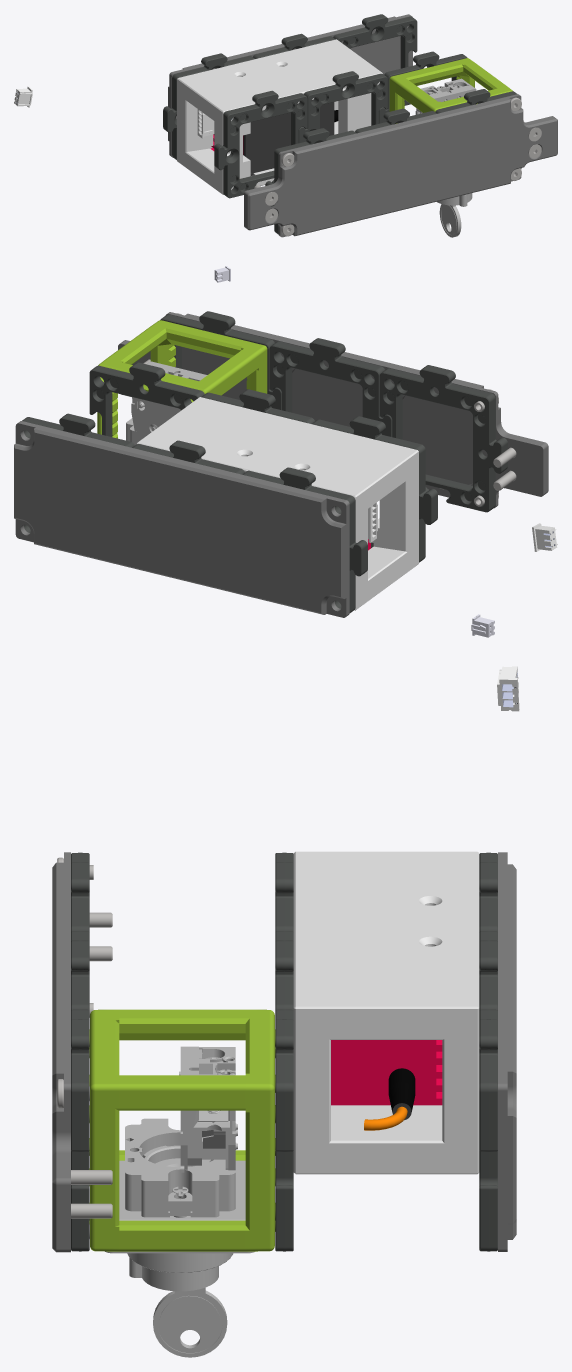
The model's file is ASS_-_1006_-_LASMOD-FRAME.glb.
The picture shows the model from 3 angles, top to bottom: view 1: azimuth 30°, elevation 25°; view 2: azimuth 150°, elevation 25°; view 3: azimuth 270°, elevation 25°; orthographic projection. The views are drawn at different scales.
Visible parts, largest first — view 1: PRT - 1025 - TOPPLA3X1 - V04:1, PRT - 3010 - CASHLFLAS:2, PRT - 3010 - CASHLFLAS:1, ASS - 2060 - CUBLASKEY - V04_Vereinfachen_1:1, PRT - 1004 - PUZ11 - V04 - A:4, Laser:1, PRT - 1004 - PUZ11 - V04 - A:5, PRT - 1024 - BASPLA3X1 - V04:1, PRT - 1004 - PUZ11 - V04 - A:3, PRT - 1004 - PUZ11 - V04 - A:1, PRT - 1004 - PUZ11 - V04 - A:6, PRT - 1004 - PUZ11 - V04 - A:7 (+4 smaller); view 2: PRT - 1024 - BASPLA3X1 - V04:1, PRT - 1025 - TOPPLA3X1 - V04:1, PRT - 3010 - CASHLFLAS:2, ASS - 2060 - CUBLASKEY - V04_Vereinfachen_1:1, PRT - 3010 - CASHLFLAS:1, PRT - 1004 - PUZ11 - V04 - A:7, PRT - 1004 - PUZ11 - V04 - A:8, PRT - 1004 - PUZ11 - V04 - A:6, PRT - 1004 - PUZ11 - V04 - A:4, PRT - 1004 - PUZ11 - V04 - A:1, PRT - 1004 - PUZ11 - V04 - A:9, PRT - 1004 - PUZ11 - V04 - A:5 (+4 smaller); view 3: ASS - 2060 - CUBLASKEY - V04_Vereinfachen_1:1, PRT - 3010 - CASHLFLAS:2, PRT - 3010 - CASHLFLAS:1, Laser:1, PRT - 1024 - BASPLA3X1 - V04:1, PRT - 1025 - TOPPLA3X1 - V04:1, PRT - 1004 - PUZ11 - V04 - A:6, PRT - 1004 - PUZ11 - V04 - A:3, PRT - 1004 - PUZ11 - V04 - A:9, PRT - 1004 - PUZ11 - V04 - A:4, PRT - 1004 - PUZ11 - V04 - A:1, PRT - 1004 - PUZ11 - V04 - A:7 (+4 smaller).
Part boxes in pixels (x1,y1,x2,y2): PRT - 1025 - TOPPLA3X1 - V04:1: (244, 94, 557, 237); PRT - 3010 - CASHLFLAS:2: (199, 56, 382, 194); PRT - 3010 - CASHLFLAS:1: (177, 39, 358, 177); ASS - 2060 - CUBLASKEY - V04_Vereinfachen_1:1: (389, 58, 512, 237); PRT - 1004 - PUZ11 - V04 - A:4: (214, 90, 307, 198); Laser:1: (211, 100, 338, 175); PRT - 1004 - PUZ11 - V04 - A:5: (298, 71, 387, 143); PRT - 1024 - BASPLA3X1 - V04:1: (168, 14, 412, 157); PRT - 1004 - PUZ11 - V04 - A:3: (333, 14, 417, 105); PRT - 1004 - PUZ11 - V04 - A:1: (163, 53, 254, 159); PRT - 1004 - PUZ11 - V04 - A:6: (379, 51, 467, 123); PRT - 1004 - PUZ11 - V04 - A:7: (265, 128, 356, 234); PRT - 1024 - BASPLA3X1 - V04:1: (14, 421, 349, 617); PRT - 1025 - TOPPLA3X1 - V04:1: (118, 312, 548, 508); PRT - 3010 - CASHLFLAS:2: (169, 397, 418, 586); ASS - 2060 - CUBLASKEY - V04_Vereinfachen_1:1: (97, 320, 267, 445); PRT - 3010 - CASHLFLAS:1: (136, 420, 387, 610); PRT - 1004 - PUZ11 - V04 - A:7: (380, 365, 507, 512); PRT - 1004 - PUZ11 - V04 - A:8: (269, 338, 392, 436); PRT - 1004 - PUZ11 - V04 - A:6: (89, 362, 204, 436); PRT - 1004 - PUZ11 - V04 - A:4: (312, 416, 437, 562); PRT - 1004 - PUZ11 - V04 - A:1: (242, 467, 367, 612); PRT - 1004 - PUZ11 - V04 - A:9: (160, 311, 281, 410); PRT - 1004 - PUZ11 - V04 - A:5: (201, 389, 314, 423); ASS - 2060 - CUBLASKEY - V04_Vereinfachen_1:1: (89, 1009, 275, 1357); PRT - 3010 - CASHLFLAS:2: (293, 851, 386, 1174); PRT - 3010 - CASHLFLAS:1: (386, 851, 479, 1174); Laser:1: (331, 1040, 442, 1130); PRT - 1024 - BASPLA3X1 - V04:1: (498, 852, 516, 1251); PRT - 1025 - TOPPLA3X1 - V04:1: (52, 852, 70, 1252); PRT - 1004 - PUZ11 - V04 - A:6: (275, 1009, 293, 1251); PRT - 1004 - PUZ11 - V04 - A:3: (479, 1009, 497, 1251); PRT - 1004 - PUZ11 - V04 - A:9: (71, 1009, 89, 1251); PRT - 1004 - PUZ11 - V04 - A:4: (275, 852, 293, 931); PRT - 1004 - PUZ11 - V04 - A:1: (479, 852, 497, 931); PRT - 1004 - PUZ11 - V04 - A:7: (71, 852, 89, 931).
Size of the model in its own units: 267 by 103 by 126.
